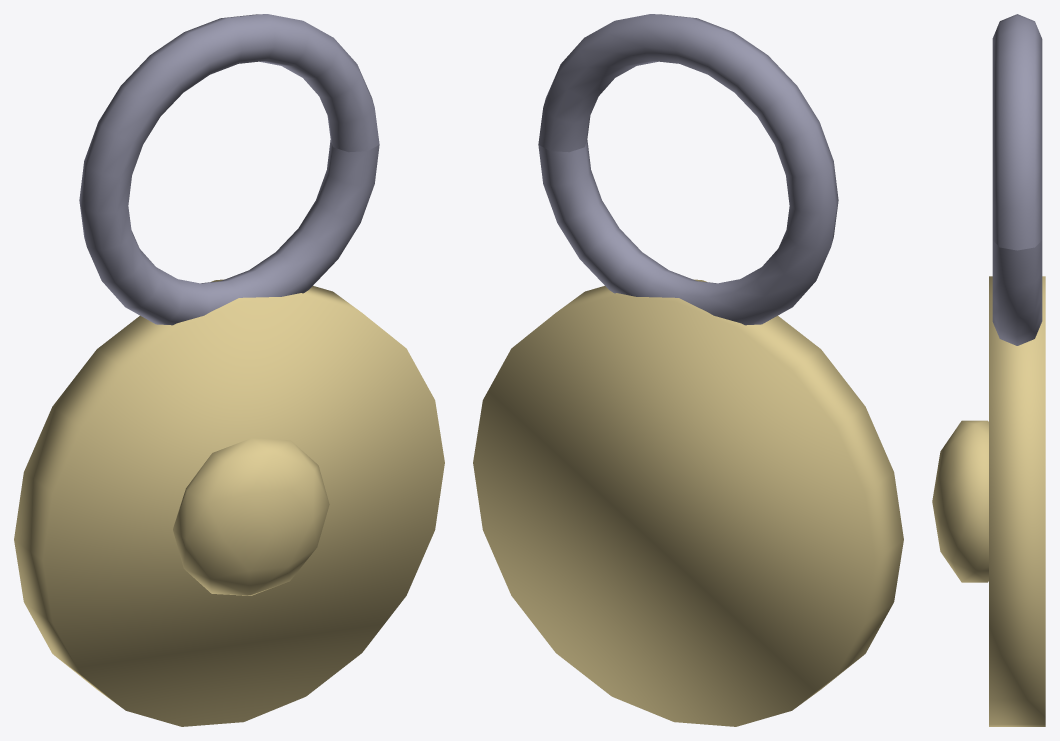
The model's file is tiber.glb.
3 views of the same model, side by side, from view 1: azimuth 30°, elevation 25°; view 2: azimuth 150°, elevation 25°; view 3: azimuth 270°, elevation 25° (orthographic). The views are drawn at different scales.
Parts seen in each view (by area): view 1: tiber; view 2: tiber; view 3: tiber.
Part boxes in pixels (x1,y1,x2,y2): tiber: (14, 14, 444, 726); tiber: (473, 14, 903, 726); tiber: (932, 14, 1045, 726).
Bounding box in the file's own units: 0.064 × 0.1055 × 0.016.
